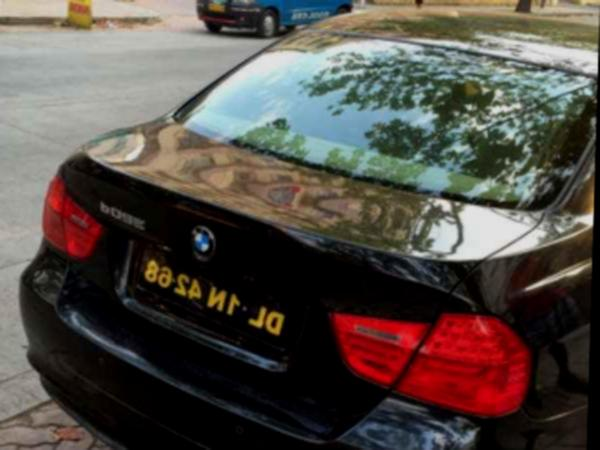License_Plate: (134, 236, 299, 366)
